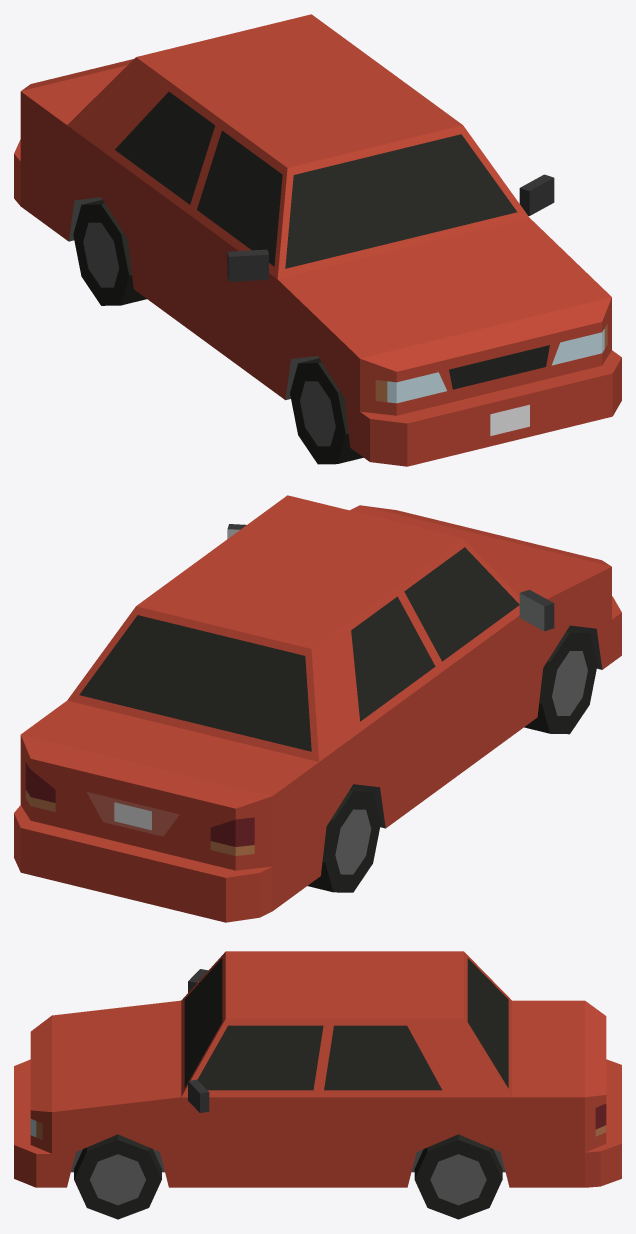
Rendered from Veh_Sedan_01_Red.glb.
The picture shows the model from 3 angles, top to bottom: view 1: azimuth 30°, elevation 25°; view 2: azimuth 150°, elevation 25°; view 3: azimuth 270°, elevation 25°; orthographic projection. The views are drawn at different scales.
Parts seen in each view (by area): view 1: Sedan_01_Red, Wheel_FR, Wheel_RR; view 2: Sedan_01_Red, Wheel_RR, Wheel_FR; view 3: Sedan_01_Red, Wheel_RL, Wheel_FL.
Boxes of the visible parts, box(x1,y1,x2,y2) form: Sedan_01_Red: box(14, 14, 621, 466); Wheel_FR: box(290, 358, 363, 464); Wheel_RR: box(73, 199, 146, 305); Sedan_01_Red: box(14, 495, 621, 922); Wheel_RR: box(308, 786, 381, 892); Wheel_FR: box(524, 628, 597, 734); Sedan_01_Red: box(14, 951, 621, 1187); Wheel_RL: box(414, 1134, 502, 1219); Wheel_FL: box(74, 1134, 161, 1219).
Size of the model in its own units: 1.22 by 0.852 by 2.52.
1 material, 1 textured.
